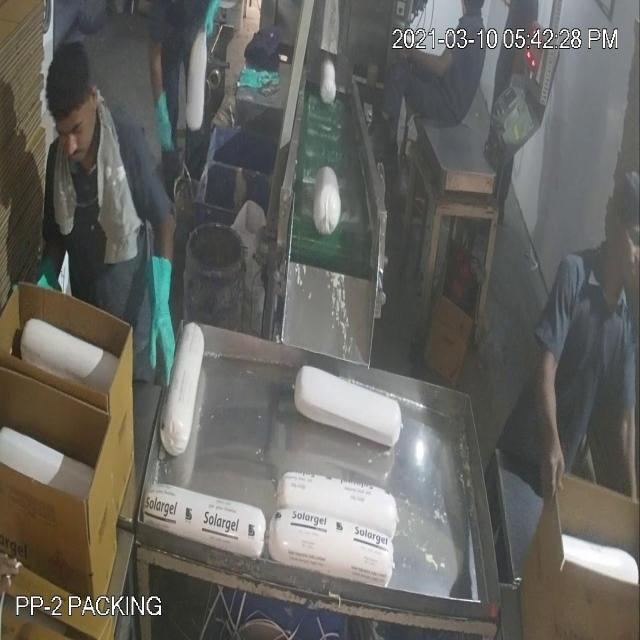gloves: (136, 235, 186, 420)
no-gloves: (520, 323, 576, 511), (616, 376, 640, 520), (393, 41, 469, 85)
